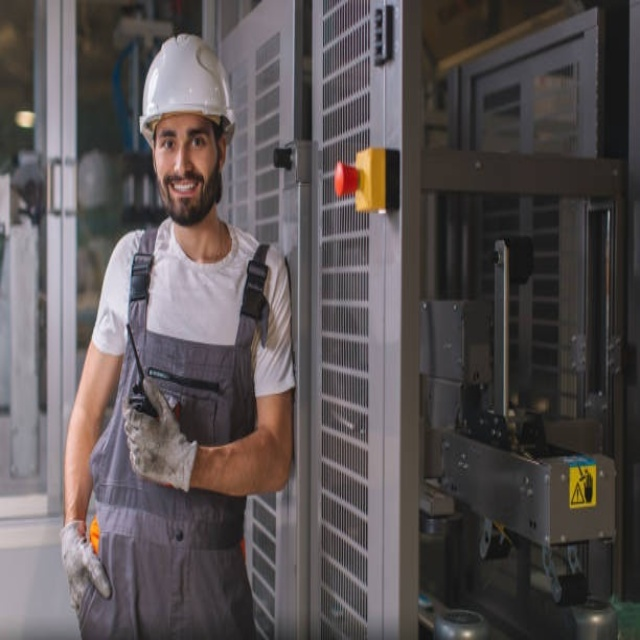Guantes: (123, 377, 199, 493), (61, 517, 112, 618)
Sin_gafas: (158, 121, 212, 162)
Sin_mascara: (166, 171, 202, 207)
